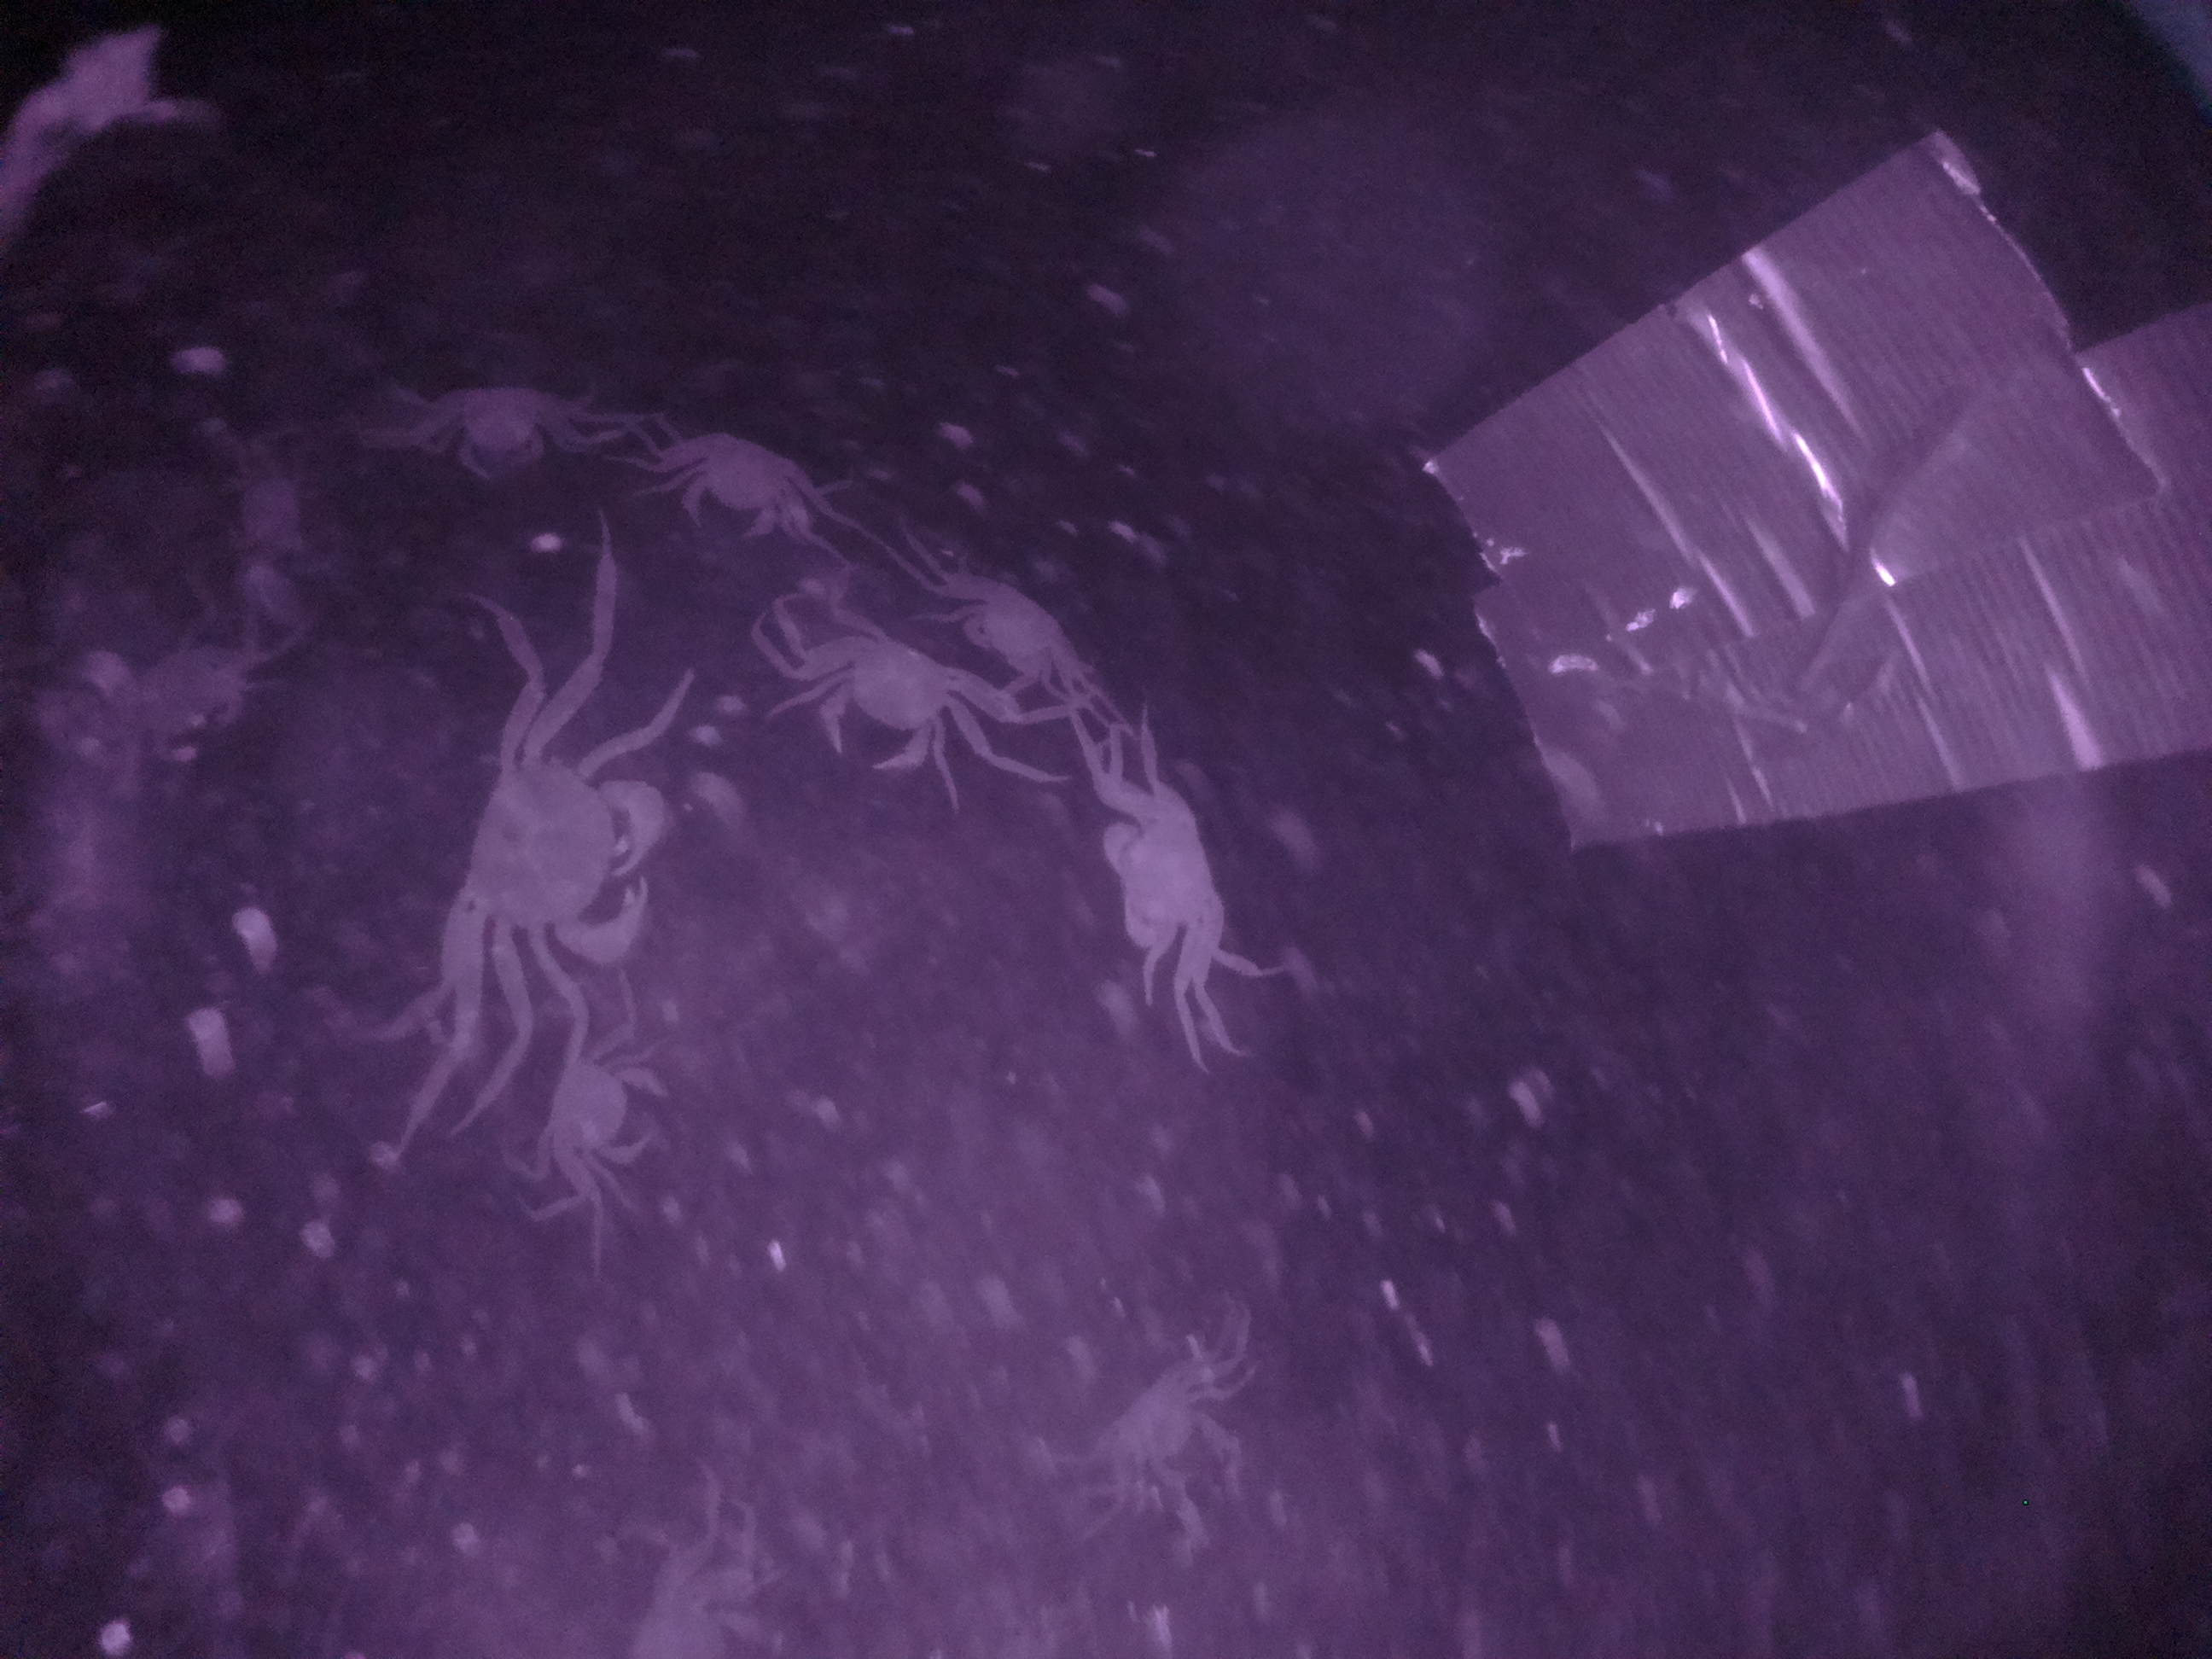Crab: (415, 721, 672, 978), (1089, 774, 1247, 964), (791, 620, 972, 786), (505, 1039, 681, 1182), (944, 552, 1104, 699), (651, 415, 836, 538), (409, 371, 594, 481)
